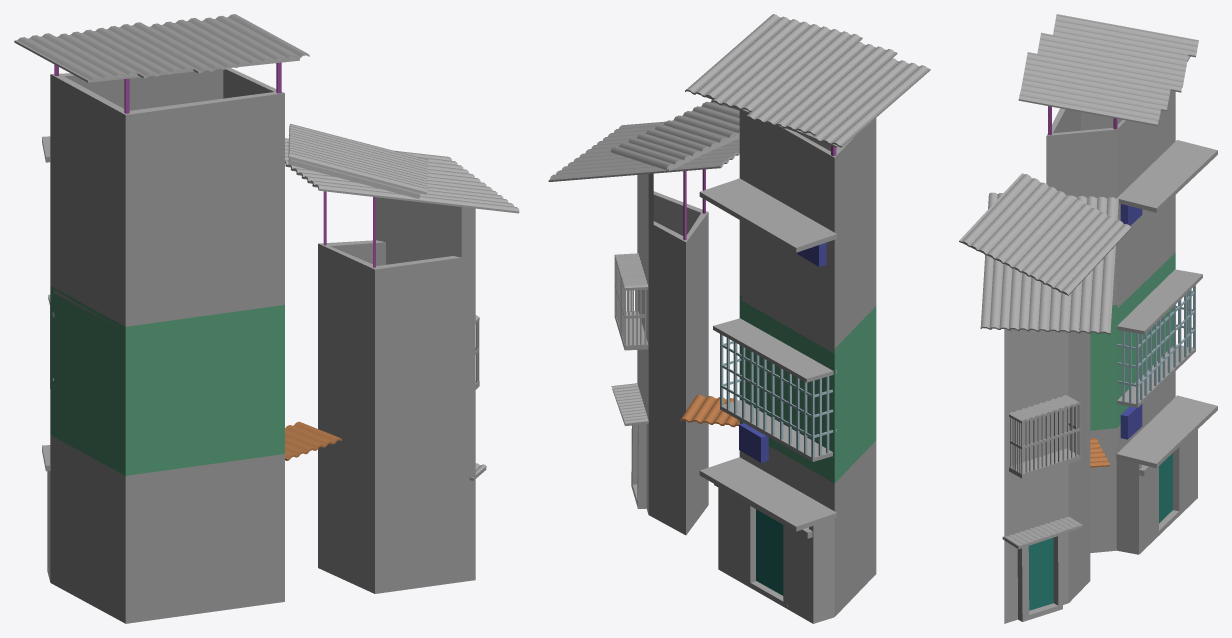
File: house2.fbx
3 renders of one model, left to right at view 1: azimuth 30°, elevation 25°; view 2: azimuth 150°, elevation 25°; view 3: azimuth 270°, elevation 25°, orthographic. The views are drawn at different scales.
Parts seen in each view (by area): view 1: wall3, wall, wall2, wall4, wall5, balcony7, balcony, balcony6, balcony8, pillar; view 2: wall3, balcony7, wall4, wall, wall2, wall5, balcony2, balcony, balcony3, cilling, balcony6, door_wall10 (+13 smaller); view 3: balcony7, wall3, balcony, wall4, balcony6, wall5, wall, wall2, balcony2, cilling, balcony3, door_wall10 (+16 smaller).
Part boxes in pixels (box(x1,y1,x2,y2)): wall3: box(50, 68, 284, 329); wall: box(50, 286, 284, 475); wall2: box(47, 435, 284, 623); wall4: box(318, 197, 475, 446); wall5: box(318, 416, 475, 593); balcony7: box(14, 14, 309, 82); balcony: box(288, 124, 428, 198); balcony6: box(285, 138, 519, 213); balcony8: box(285, 421, 341, 460); pillar: box(54, 62, 375, 267); wall3: box(739, 110, 876, 353); balcony7: box(685, 14, 930, 147); wall4: box(637, 173, 708, 402); wall: box(739, 295, 876, 483); wall2: box(718, 441, 876, 623); wall5: box(637, 349, 708, 535); balcony2: box(720, 334, 836, 457); balcony: box(611, 99, 739, 171); balcony3: box(699, 178, 836, 252); cilling: box(699, 457, 836, 531); balcony6: box(548, 121, 739, 181); door_wall10: box(718, 487, 834, 618); balcony7: box(1018, 14, 1198, 126); wall3: box(1046, 91, 1175, 307); balcony: box(959, 173, 1131, 295); wall4: box(1004, 329, 1090, 501); balcony6: box(980, 192, 1118, 334); wall5: box(1004, 459, 1090, 623); wall: box(1090, 253, 1175, 430); wall2: box(1090, 372, 1197, 554); balcony2: box(1117, 285, 1195, 404); cilling: box(1116, 395, 1217, 468); balcony3: box(1116, 140, 1217, 212); door_wall10: box(1116, 429, 1197, 552).
Bounding box in the file's own units: 8.56 × 11.85 × 5.93.
